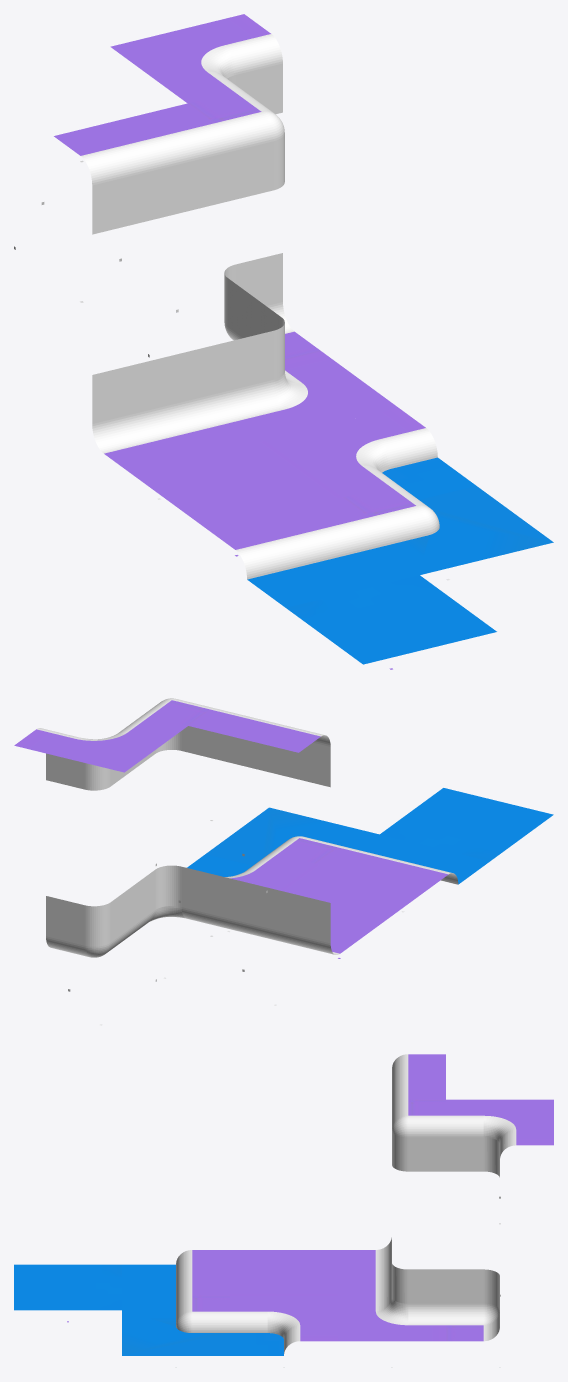
Rendered from WaveFunctionCollapse.fbx.
3 views of the same model, one above another, from view 1: azimuth 30°, elevation 25°; view 2: azimuth 150°, elevation 25°; view 3: azimuth 270°, elevation 25° (orthographic). The views are drawn at different scales.
Parts seen in each view (by area): view 1: Mesh1, Mesh4, Mesh13, Mesh2, Mesh18, Mesh17, Mesh12, Mesh9, Mesh6, Mesh7, Mesh3; view 2: Mesh12, Mesh6, Mesh1, Mesh4, Mesh18, Mesh13, Mesh9, Mesh2, Mesh3, Mesh7, Mesh17; view 3: Mesh6, Mesh2, Mesh17, Mesh18, Mesh12, Mesh13, Mesh9, Mesh3, Mesh7, Mesh1, Mesh4.
Boxes of the visible parts, <box> form: Mesh1: <box>92,342,264,499</box>; Mesh4: <box>54,103,226,234</box>; Mesh13: <box>208,497,419,607</box>; Mesh2: <box>226,298,398,440</box>; Mesh18: <box>342,485,553,580</box>; Mesh17: <box>265,408,476,499</box>; Mesh12: <box>286,575,496,669</box>; Mesh9: <box>131,441,341,556</box>; Mesh6: <box>110,14,282,114</box>; Mesh7: <box>188,91,284,201</box>; Mesh3: <box>148,253,321,360</box>; Mesh12: <box>380,788,553,861</box>; Mesh6: <box>14,716,187,790</box>; Mesh1: <box>220,876,362,1005</box>; Mesh4: <box>188,708,330,787</box>; Mesh18: <box>205,807,379,865</box>; Mesh13: <box>316,834,489,912</box>; Mesh9: <box>279,864,425,958</box>; Mesh2: <box>129,865,224,978</box>; Mesh3: <box>46,886,156,1025</box>; Mesh7: <box>133,698,220,769</box>; Mesh17: <box>187,854,315,931</box>; Mesh6: <box>446,1099,553,1177</box>; Mesh2: <box>338,1264,445,1367</box>; Mesh17: <box>230,1295,337,1367</box>; Mesh18: <box>122,1295,229,1367</box>; Mesh12: <box>14,1264,121,1322</box>; Mesh13: <box>122,1250,229,1310</box>; Mesh9: <box>230,1250,337,1295</box>; Mesh3: <box>446,1269,500,1367</box>; Mesh7: <box>392,1099,445,1171</box>; Mesh1: <box>338,1237,391,1295</box>; Mesh4: <box>392,1054,445,1112</box>.
Size of the model in its own units: 400 by 500 by 1000.
